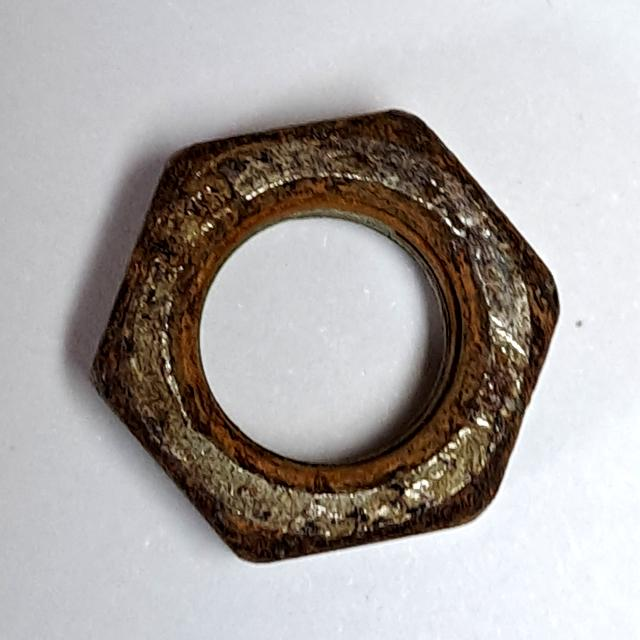Rust: (76, 102, 575, 576)
